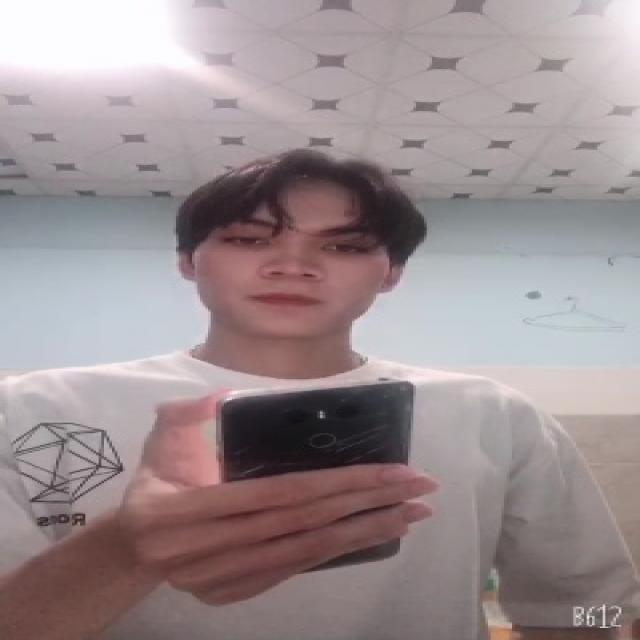Phone: (212, 373, 416, 572)
